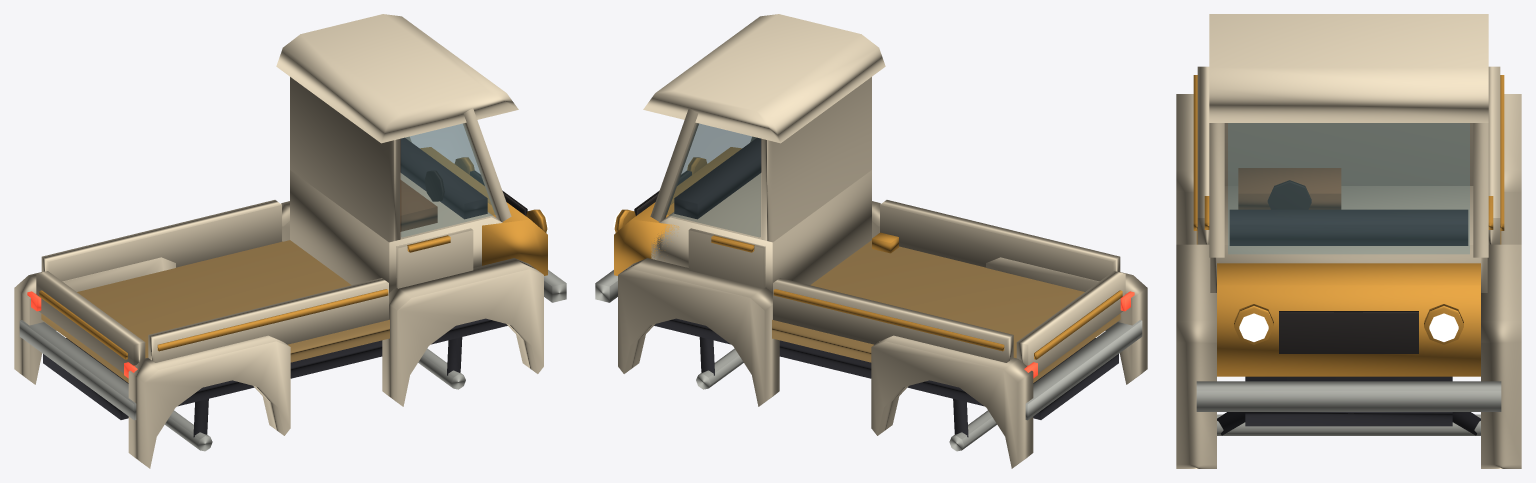
The model's file is truck_van_lod1.glb.
The picture shows the model from 3 angles, left to right: view 1: azimuth 30°, elevation 25°; view 2: azimuth 150°, elevation 25°; view 3: azimuth 270°, elevation 25°; orthographic projection. The views are drawn at different scales.
Visible parts, largest first — view 1: Ladder frame, Windscreen, Tailgate, Stamped half-door.001, Axle shaft, Axle shaft.001; view 2: Ladder frame, Windscreen, Tailgate, Axle shaft, Axle shaft.001; view 3: Ladder frame, Windscreen, Axle shaft.001, Headlamp lens, Stamped half-door.001.
Part boxes in pixels (x1=…): Ladder frame: x1=14, y1=14, x2=566, y2=468; Windscreen: x1=401, y1=123, x2=496, y2=237; Tailgate: x1=36, y1=271, x2=145, y2=373; Stamped half-door.001: x1=396, y1=228, x2=473, y2=288; Axle shaft: x1=165, y1=399, x2=212, y2=451; Axle shaft.001: x1=418, y1=337, x2=465, y2=389; Ladder frame: x1=595, y1=14, x2=1147, y2=468; Windscreen: x1=665, y1=123, x2=760, y2=237; Tailgate: x1=1016, y1=271, x2=1125, y2=373; Axle shaft: x1=949, y1=399, x2=996, y2=451; Axle shaft.001: x1=696, y1=337, x2=743, y2=389; Ladder frame: x1=1176, y1=14, x2=1521, y2=468; Windscreen: x1=1228, y1=123, x2=1469, y2=253; Axle shaft.001: x1=1217, y1=412, x2=1480, y2=435; Headlamp lens: x1=1239, y1=313, x2=1458, y2=341; Stamped half-door.001: x1=1204, y1=196, x2=1216, y2=292.
Size of the model in its own units: 3.93 by 2.53 by 2.04.
